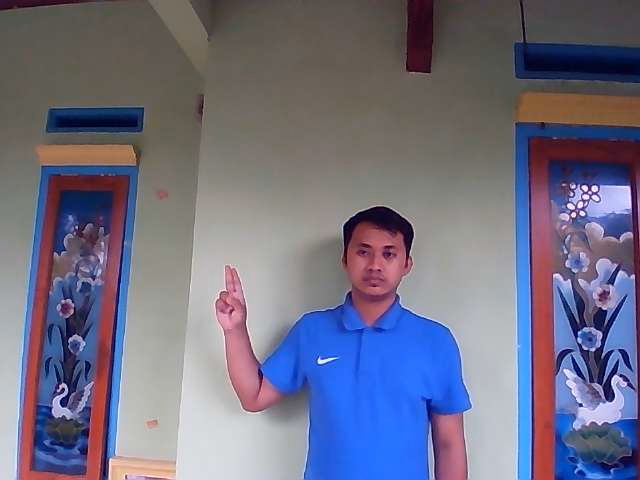U: (214, 264, 246, 331)
